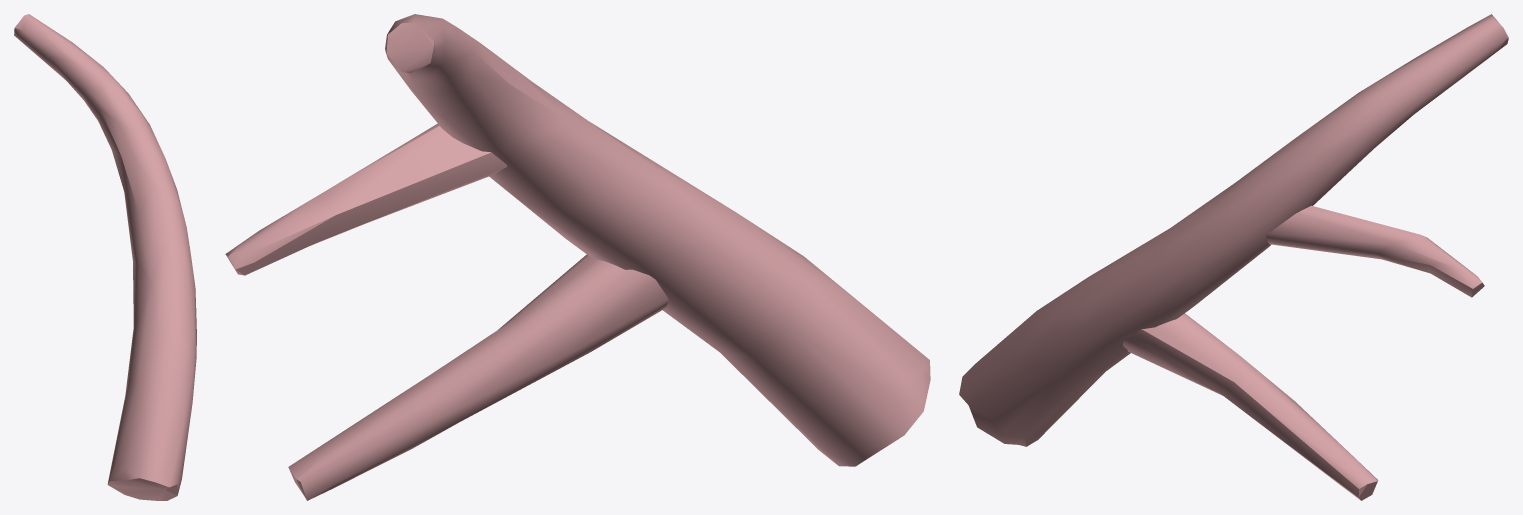
Rendered from fma68225_cx163.glb.
3 views of the same model, side by side, from view 1: azimuth 30°, elevation 25°; view 2: azimuth 150°, elevation 25°; view 3: azimuth 270°, elevation 25° (orthographic). The views are drawn at different scales.
Visible parts, largest first — view 1: FMA68225_CX163; view 2: FMA68225_CX163; view 3: FMA68225_CX163.
Part boxes in pixels (x1,y1,x2,y2): FMA68225_CX163: (14,14,196,500); FMA68225_CX163: (225,14,930,500); FMA68225_CX163: (959,14,1508,500).
Size of the model in its own units: 0.0219 by 0.0351 by 0.0379.
